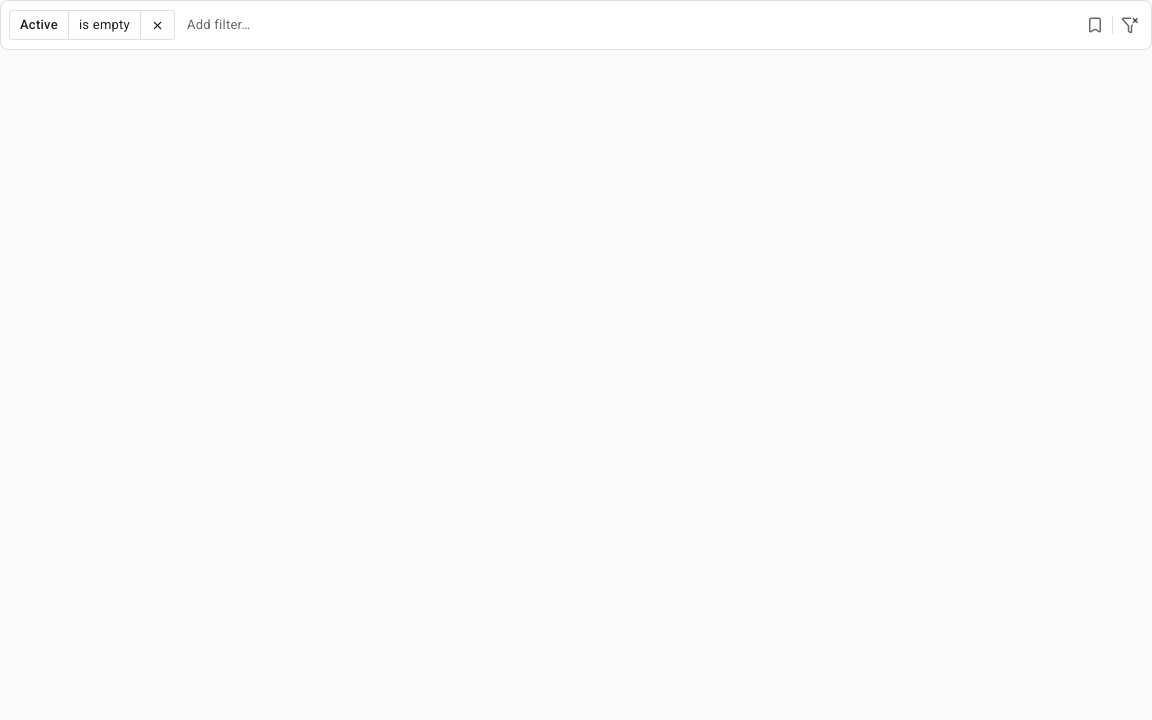
Test: controller integration regressions › keeps is empty selected when reopening a boolean token
Click the button titled "Change operator" at (104, 25), box [69,11,140,39]
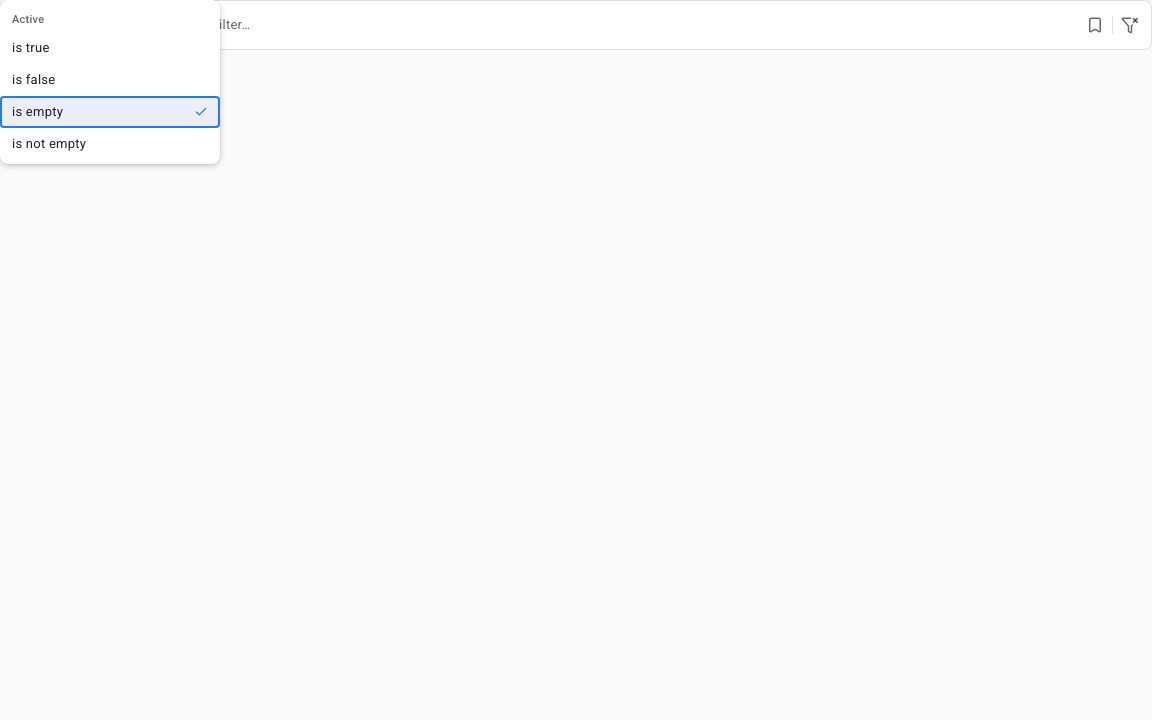
Press Enter
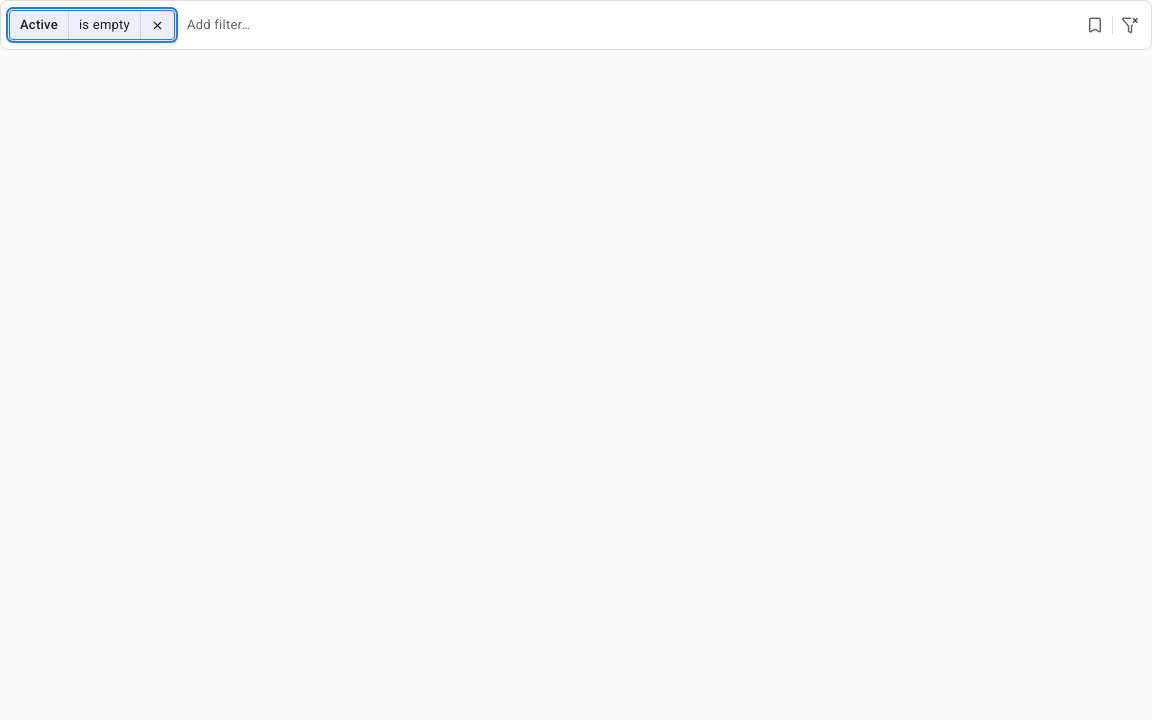
Expected: the element "Active is empty" is shown, [9,10,175,40]
Expected: the dialog is gone
